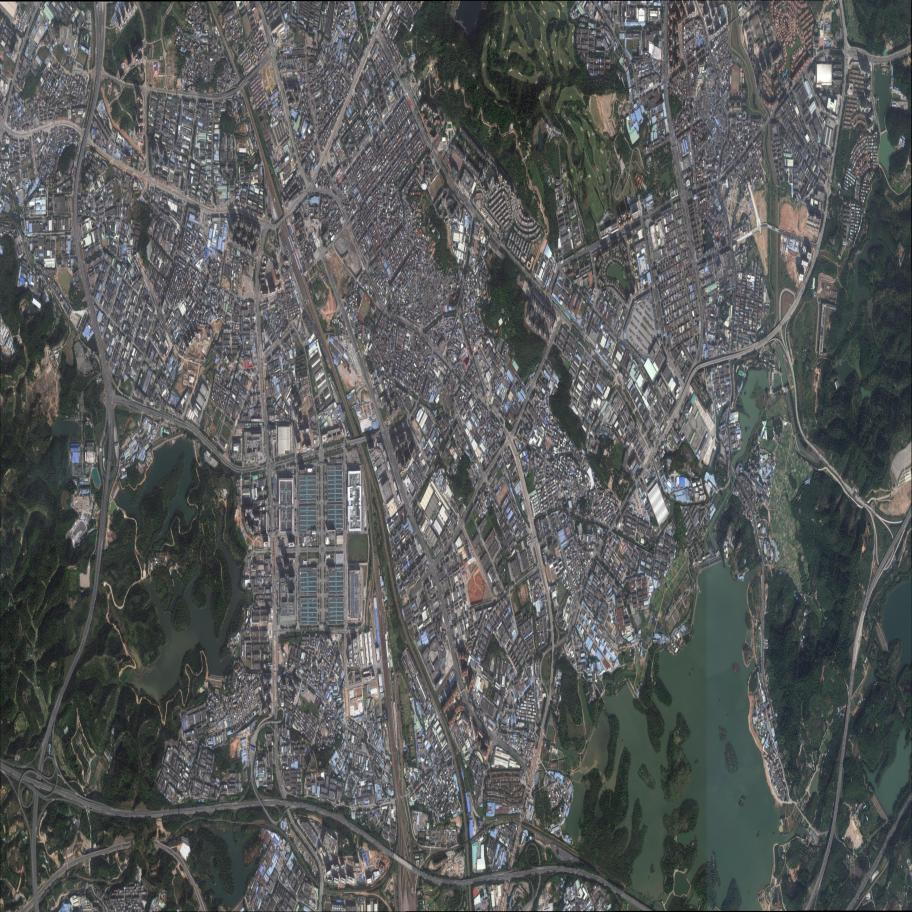storage-tank: (338, 905, 341, 910), (334, 905, 336, 910), (336, 905, 338, 910), (341, 905, 343, 910), (332, 905, 334, 909)
